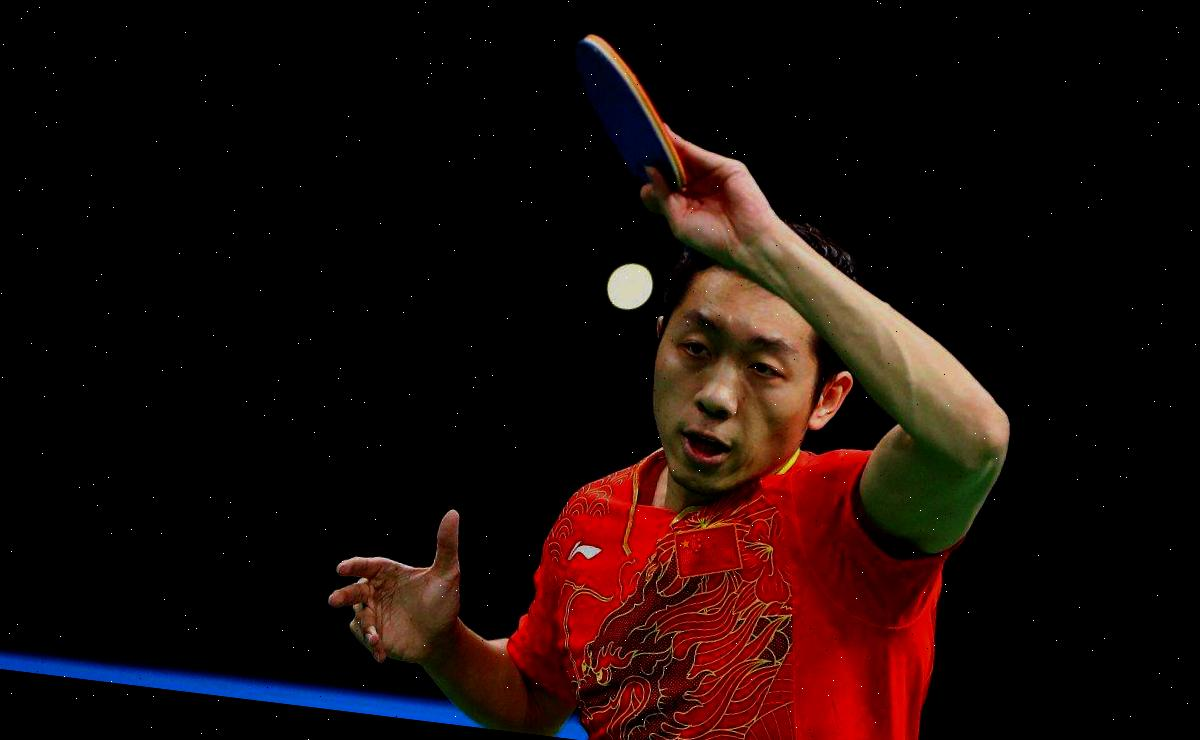ball: (595, 252, 661, 320)
